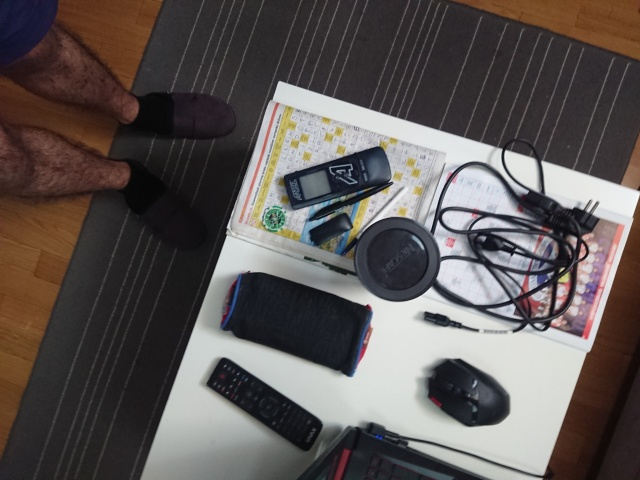Nescafe Classic 225g: (350, 214, 444, 304)
